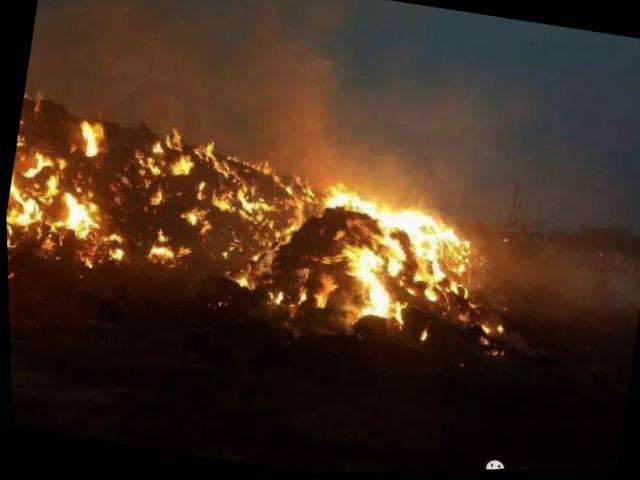fire: (2, 94, 490, 361)
